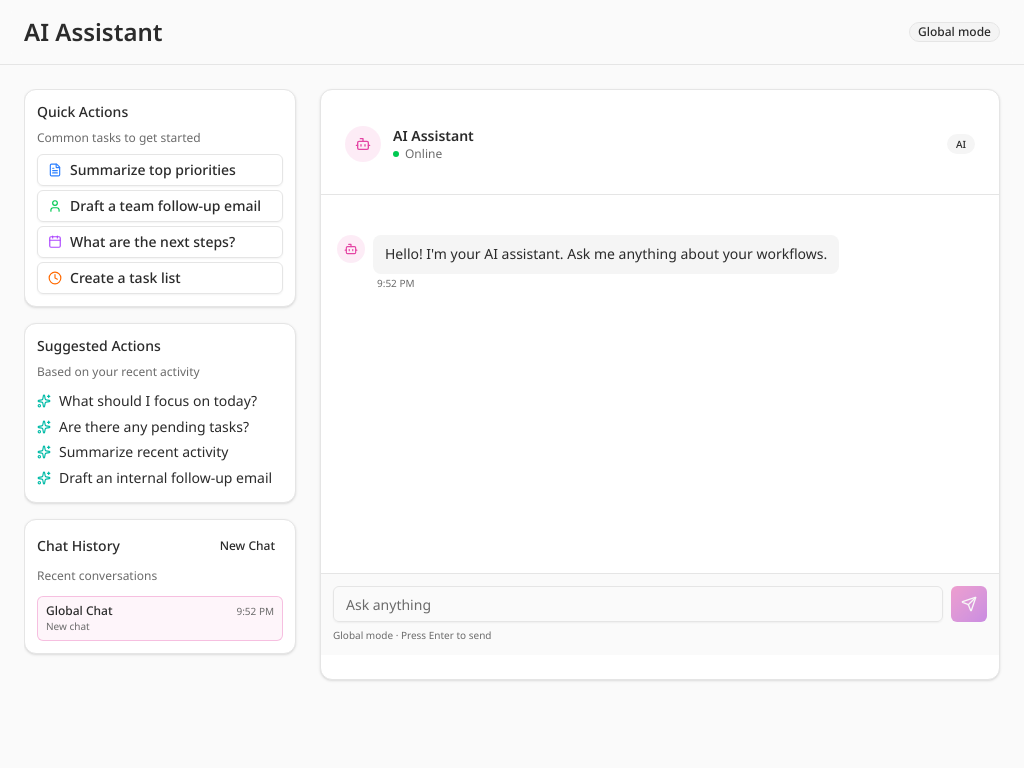
it: AIAssistantPage › adds an accessible label to reject action buttons
The width and height of the screenshot is (1024, 768).
Type "Summarize this workflow" into the field. click: (638, 604)
box: [333,586,943,622]
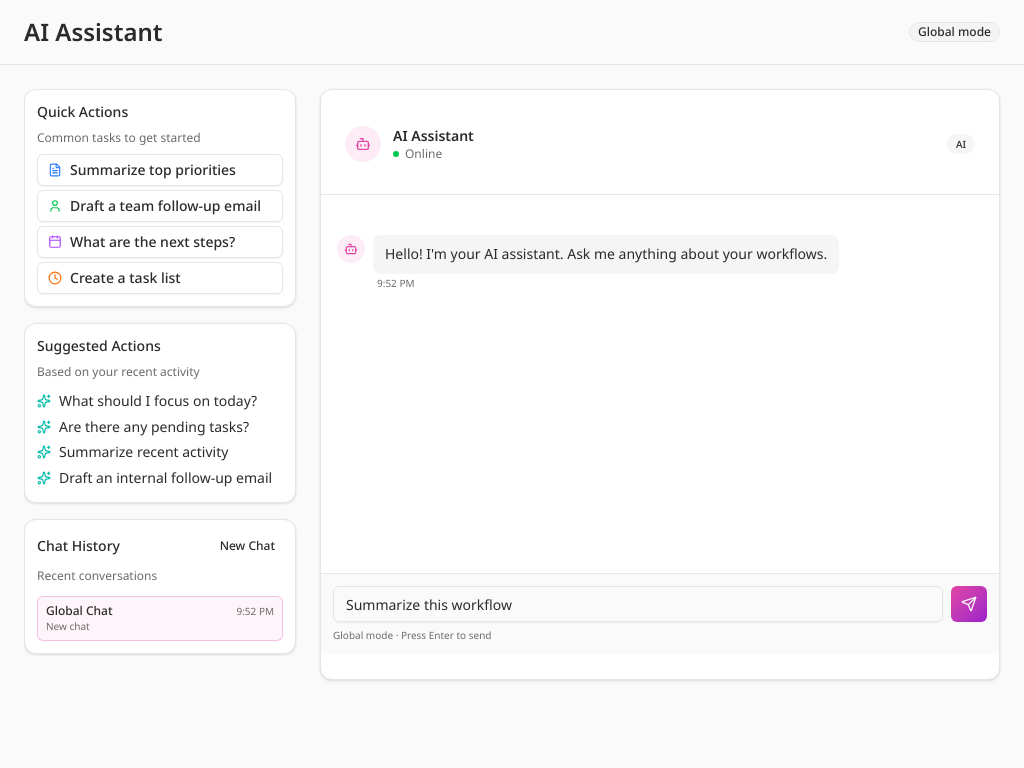
Press Enter in the field, box [333,586,943,622]
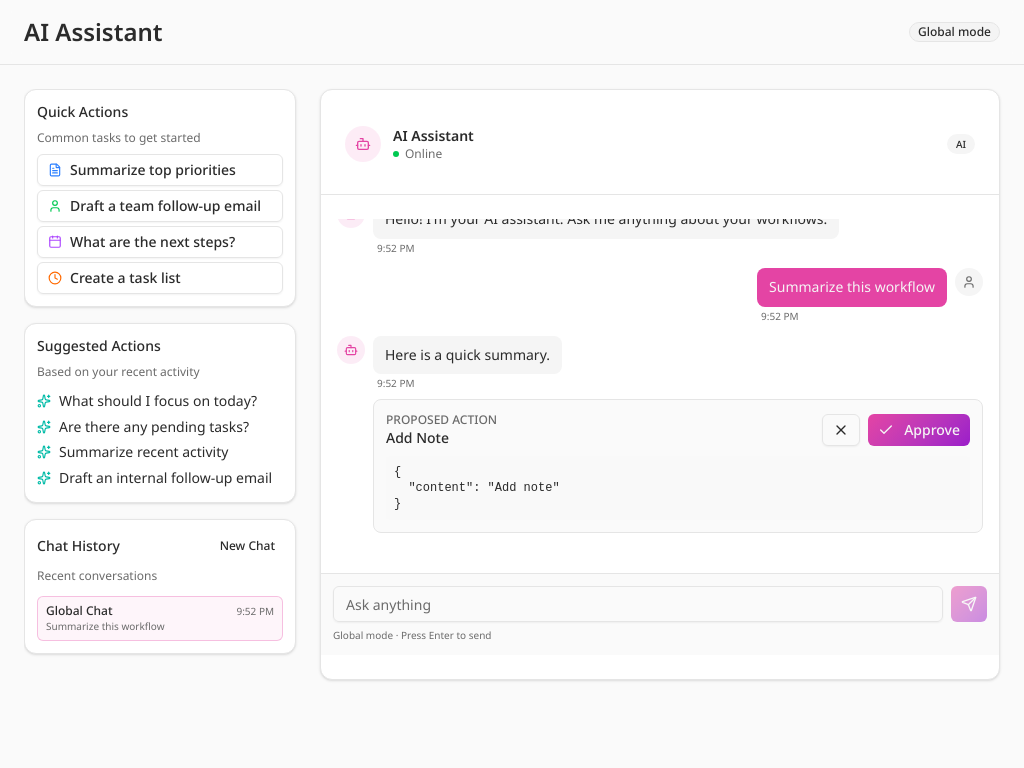
Result: the button named "reject action" is shown at [822,414,860,446]
